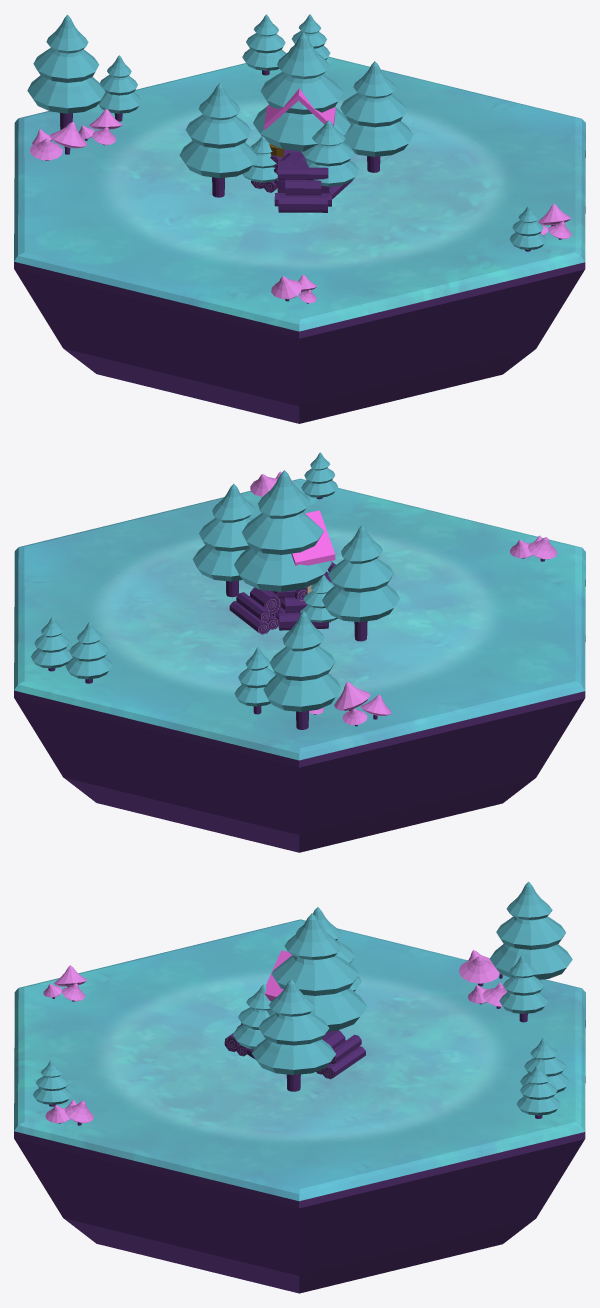
File: Asset_Biome_Forest_02.fbx
The picture shows the model from 3 angles, top to bottom: view 1: azimuth 30°, elevation 25°; view 2: azimuth 150°, elevation 25°; view 3: azimuth 270°, elevation 25°; orthographic projection.
Parts seen in each view (by area): view 1: Asset_Tile_Forest, PolySurface_TreeForest_02, PolySurface_TreeForest_04, PolySurface_TreeForest_03, PolySurface_TreeForest_06, PolySurface_TreeForest_05, PolySurface_TreeForest_010, PolySurface_TreeForest_09, PolySurface_MushroomForest_02, PolySurface_TreeForest_08, PolySurface_TreeForest_01, pCylinder3 (+7 smaller); view 2: Asset_Tile_Forest, PolySurface_TreeForest_02, PolySurface_TreeForest_04, PolySurface_TreeForest_03, PolySurface_TreeForest_06, PolySurface_TreeForest_09, PolySurface_TreeForest_010, PolySurface_TreeForest_07, PolySurface_MushroomForest_02, structure_puit1, PolySurface_TreeForest_08, PolySurface_TreeForest_01 (+2 smaller); view 3: Asset_Tile_Forest, PolySurface_TreeForest_02, PolySurface_TreeForest_06, PolySurface_TreeForest_04, PolySurface_TreeForest_010, PolySurface_TreeForest_07, PolySurface_TreeForest_05, PolySurface_TreeForest_09, PolySurface_TreeForest_08, PolySurface_MushroomForest_02, PolySurface_MushroomForest_04, PolySurface_MushroomForest_03 (+3 smaller).
Boxes of the visible parts, x1,y1,x2,y2 form: Asset_Tile_Forest: [14, 53, 585, 423]; PolySurface_TreeForest_02: [253, 32, 350, 151]; PolySurface_TreeForest_04: [27, 14, 105, 129]; PolySurface_TreeForest_03: [179, 83, 257, 197]; PolySurface_TreeForest_06: [340, 61, 413, 172]; PolySurface_TreeForest_05: [301, 120, 358, 186]; PolySurface_TreeForest_010: [98, 55, 141, 121]; PolySurface_TreeForest_09: [242, 14, 286, 75]; PolySurface_MushroomForest_02: [30, 121, 86, 160]; PolySurface_TreeForest_08: [509, 205, 546, 251]; PolySurface_TreeForest_01: [242, 136, 277, 188]; pCylinder3: [278, 195, 327, 212]; Asset_Tile_Forest: [14, 478, 585, 852]; PolySurface_TreeForest_02: [234, 470, 331, 594]; PolySurface_TreeForest_04: [263, 611, 341, 729]; PolySurface_TreeForest_03: [322, 525, 399, 641]; PolySurface_TreeForest_06: [192, 483, 254, 597]; PolySurface_TreeForest_09: [65, 621, 112, 683]; PolySurface_TreeForest_010: [234, 646, 275, 714]; PolySurface_TreeForest_07: [31, 617, 72, 671]; PolySurface_MushroomForest_02: [334, 682, 391, 726]; structure_puit1: [291, 510, 335, 600]; PolySurface_TreeForest_08: [301, 452, 337, 499]; PolySurface_TreeForest_01: [300, 575, 337, 622]; Asset_Tile_Forest: [14, 919, 585, 1293]; PolySurface_TreeForest_02: [267, 913, 367, 1031]; PolySurface_TreeForest_06: [251, 979, 335, 1091]; PolySurface_TreeForest_04: [490, 881, 572, 979]; PolySurface_TreeForest_010: [499, 955, 548, 1022]; PolySurface_TreeForest_07: [516, 1065, 560, 1118]; PolySurface_TreeForest_05: [232, 984, 271, 1049]; PolySurface_TreeForest_09: [520, 1038, 569, 1092]; PolySurface_TreeForest_08: [33, 1060, 71, 1106]; PolySurface_MushroomForest_02: [458, 950, 502, 986]; PolySurface_MushroomForest_04: [43, 965, 86, 1001]; PolySurface_MushroomForest_03: [45, 1099, 93, 1125].
Size of the model in its own units: 436 by 218 by 378.
